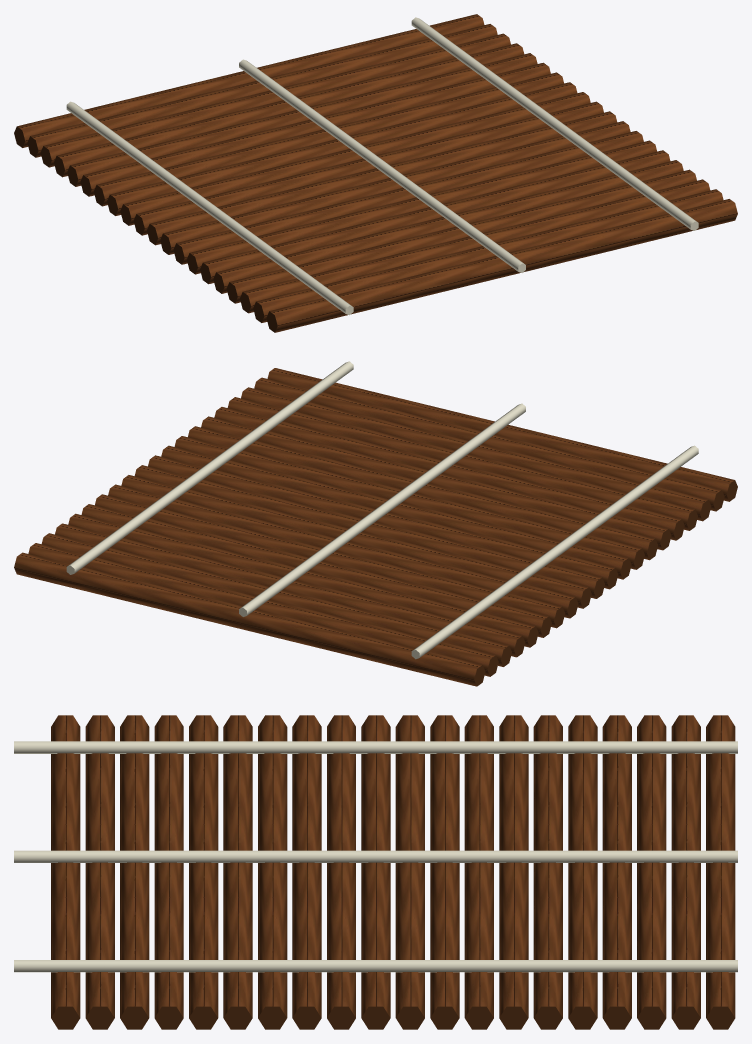
Rendered from primitive-crafting-workshop-reed-mat-14758b35__21577.glb.
3 renders of one model, top to bottom at view 1: azimuth 30°, elevation 25°; view 2: azimuth 150°, elevation 25°; view 3: azimuth 270°, elevation 25°, orthographic. The views are drawn at different scales.
Visible parts, largest first — view 1: reed-mat; view 2: reed-mat; view 3: reed-mat.
Part boxes in pixels (x1,y1,x2,y2): reed-mat: (14,14,737,332); reed-mat: (14,361,737,686); reed-mat: (14,715,737,1029).
Bounding box in the file's own units: 0.8 × 0.0427 × 0.84.
Materials: 2 (1 with a texture image).
